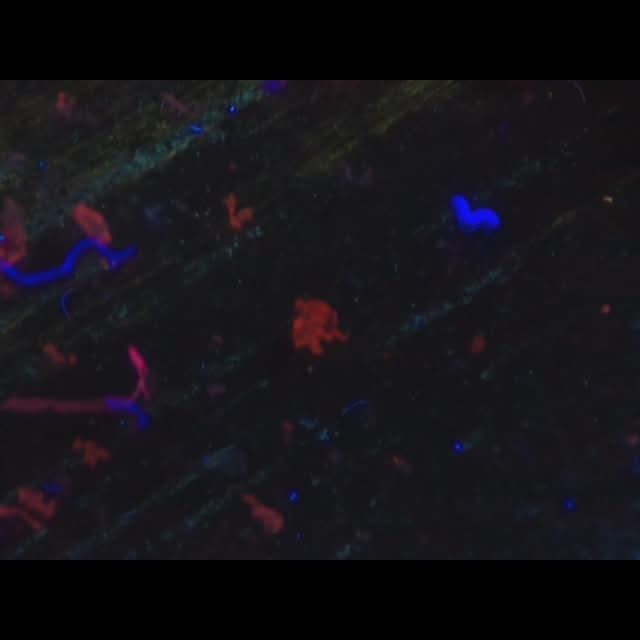Fragment: (290, 295, 348, 357)
